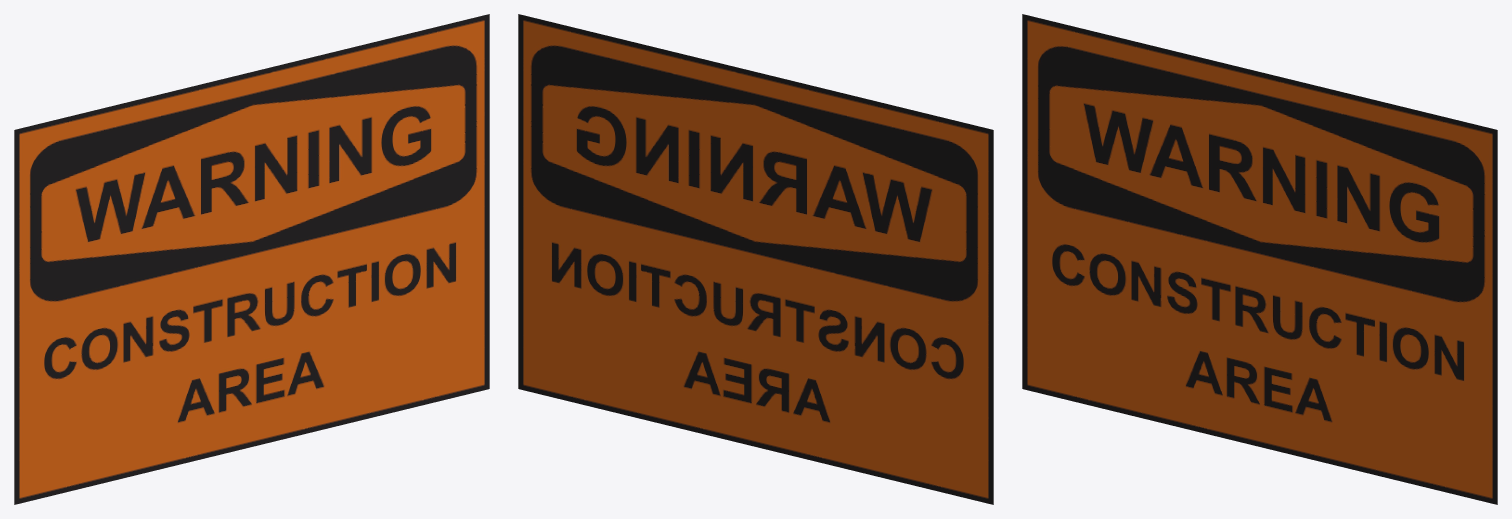
The model's file is warning.gltf.
The picture shows the model from 3 angles, left to right: view 1: azimuth 30°, elevation 25°; view 2: azimuth 150°, elevation 25°; view 3: azimuth 330°, elevation 25°; orthographic projection.
Visible parts, largest first — view 1: warning.001, warning.002, warning.006, warning.003, warning.004, warning.005, warning.007; view 2: warning.001, warning.002, warning.006, warning.003, warning.004, warning.005, warning.007; view 3: warning.001, warning.002, warning.006, warning.003, warning.004, warning.007, warning.005.
Part boxes in pixels (left/top/right/bottom): warning.001: left=14, top=86, right=251, bottom=317; warning.002: left=192, top=28, right=430, bottom=212; warning.006: left=73, top=259, right=251, bottom=475; warning.003: left=311, top=14, right=489, bottom=291; warning.004: left=252, top=198, right=370, bottom=446; warning.005: left=370, top=248, right=489, bottom=417; warning.007: left=14, top=303, right=133, bottom=504; warning.001: left=756, top=86, right=993, bottom=317; warning.002: left=577, top=28, right=815, bottom=212; warning.006: left=756, top=259, right=934, bottom=475; warning.003: left=518, top=14, right=696, bottom=291; warning.004: left=637, top=198, right=755, bottom=446; warning.005: left=518, top=248, right=637, bottom=417; warning.007: left=874, top=303, right=993, bottom=504; warning.001: left=1022, top=14, right=1259, bottom=259; warning.002: left=1200, top=57, right=1438, bottom=255; warning.006: left=1081, top=216, right=1259, bottom=446; warning.003: left=1319, top=115, right=1497, bottom=364; warning.004: left=1260, top=212, right=1378, bottom=475; warning.007: left=1022, top=201, right=1141, bottom=417; warning.005: left=1378, top=335, right=1497, bottom=504.
Size of the model in its own units: 1.33 by 1 by 2.22e-16.
Materials: 1 (1 with a texture image).
